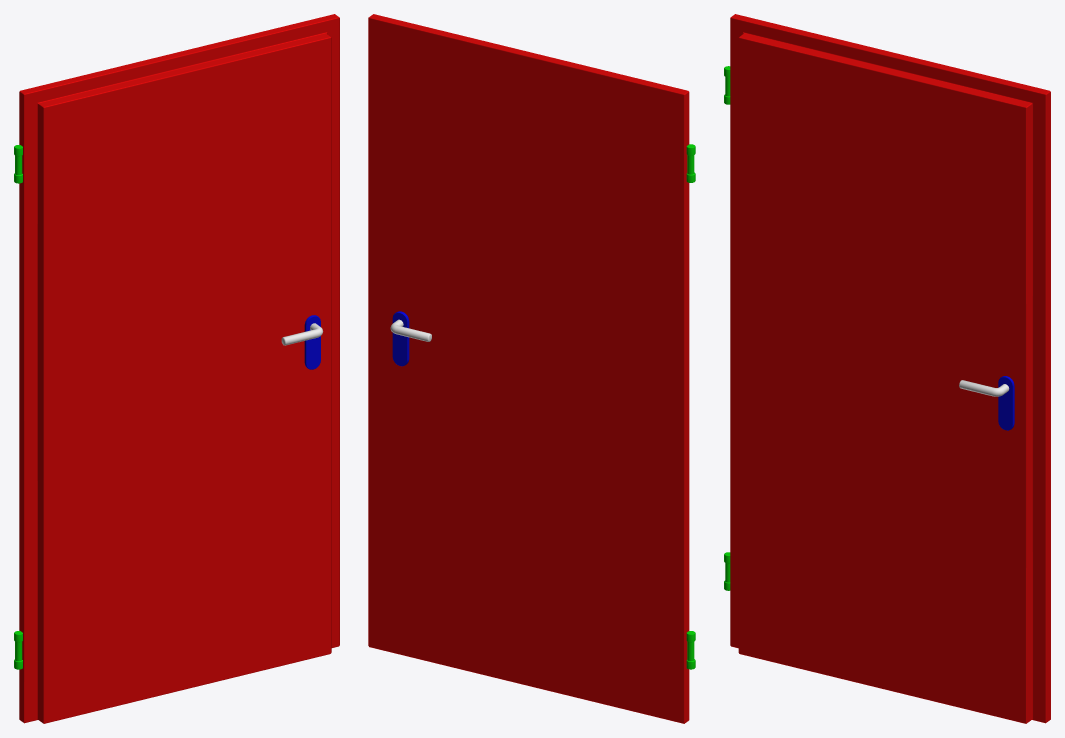
The model's file is Door.fbx.
3 views of the same model, side by side, from view 1: azimuth 30°, elevation 25°; view 2: azimuth 150°, elevation 25°; view 3: azimuth 330°, elevation 25° (orthographic).
Parts seen in each view (by area): view 1: door; view 2: door; view 3: door.
Boxes of the visible parts, left/top/right/bottom form: door: left=14, top=14, right=339, bottom=723; door: left=368, top=14, right=695, bottom=723; door: left=724, top=14, right=1050, bottom=723.
Size of the model in its own units: 131 by 243 by 22.82.
